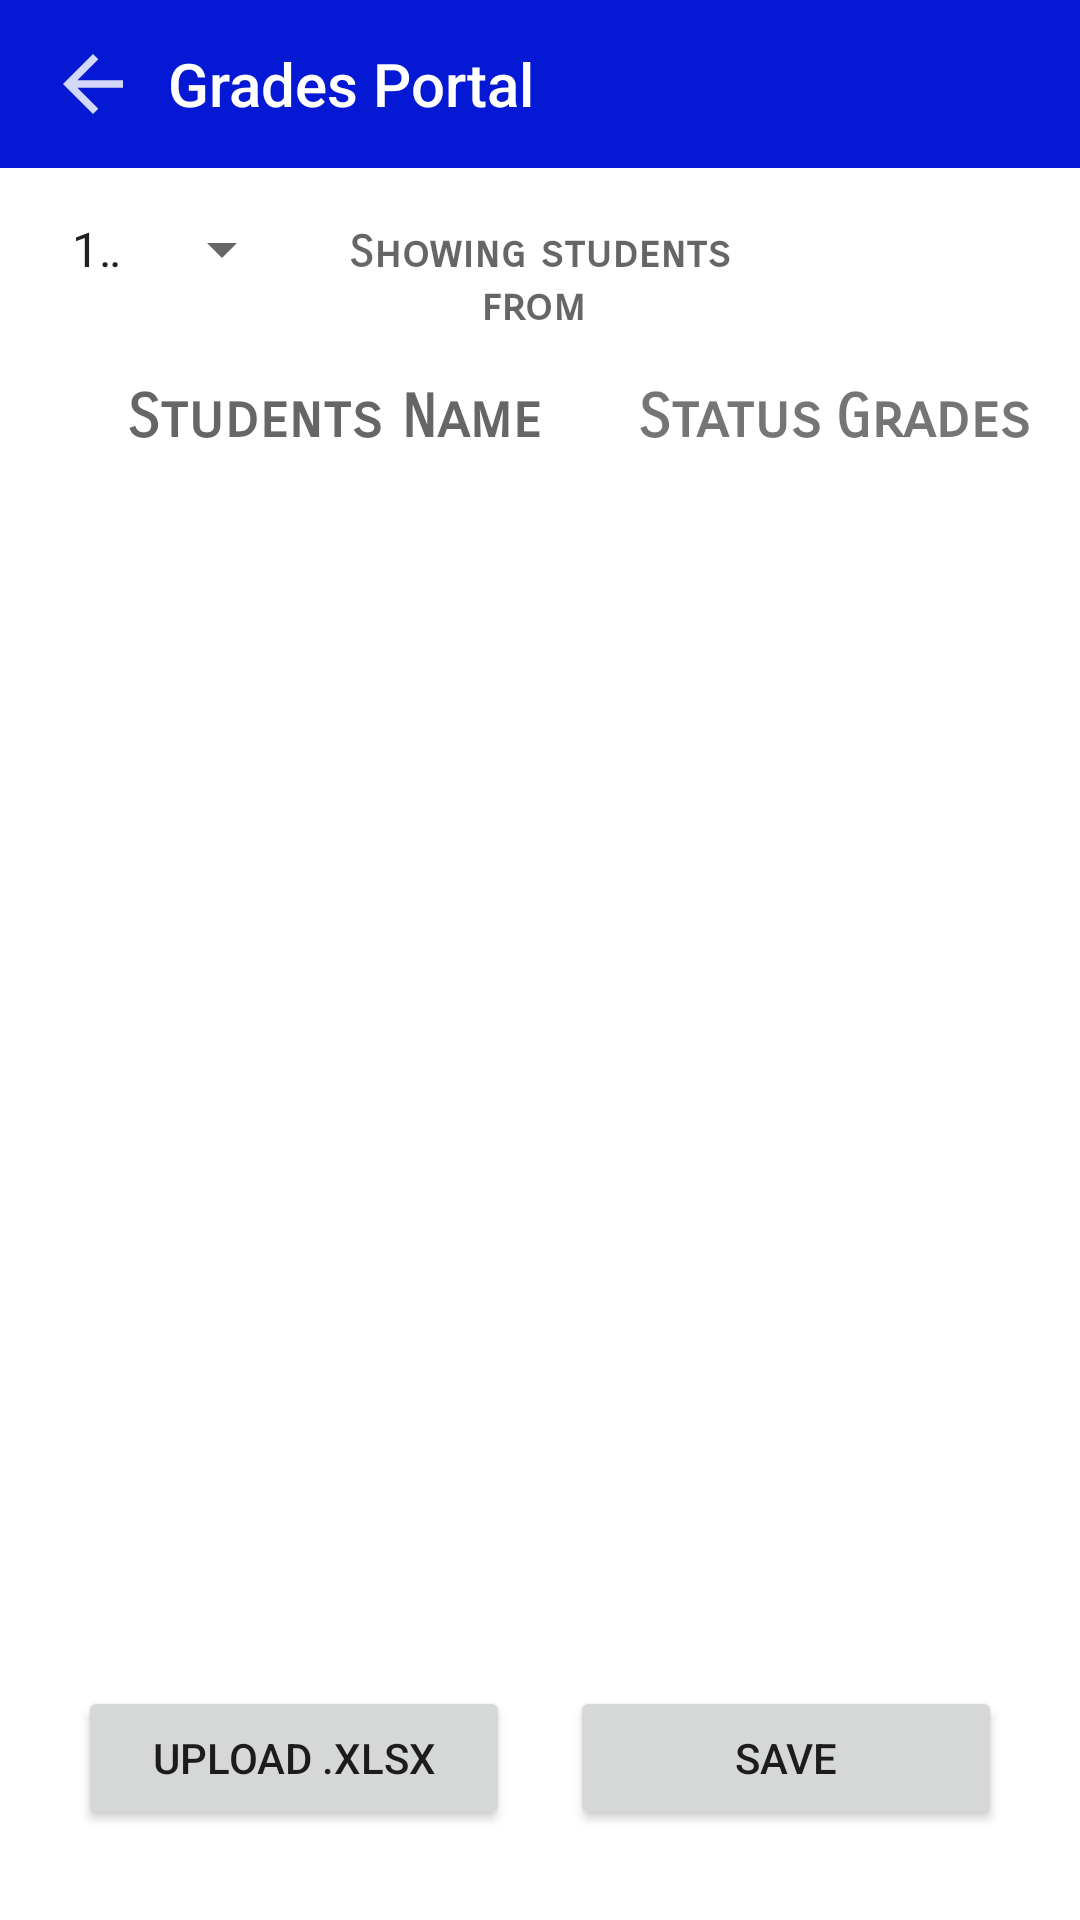

Locate icon controls on the screen. Image size 1080x1920, boxes as (x1, y1, x2, y2).
Back: (63, 54, 123, 114)
